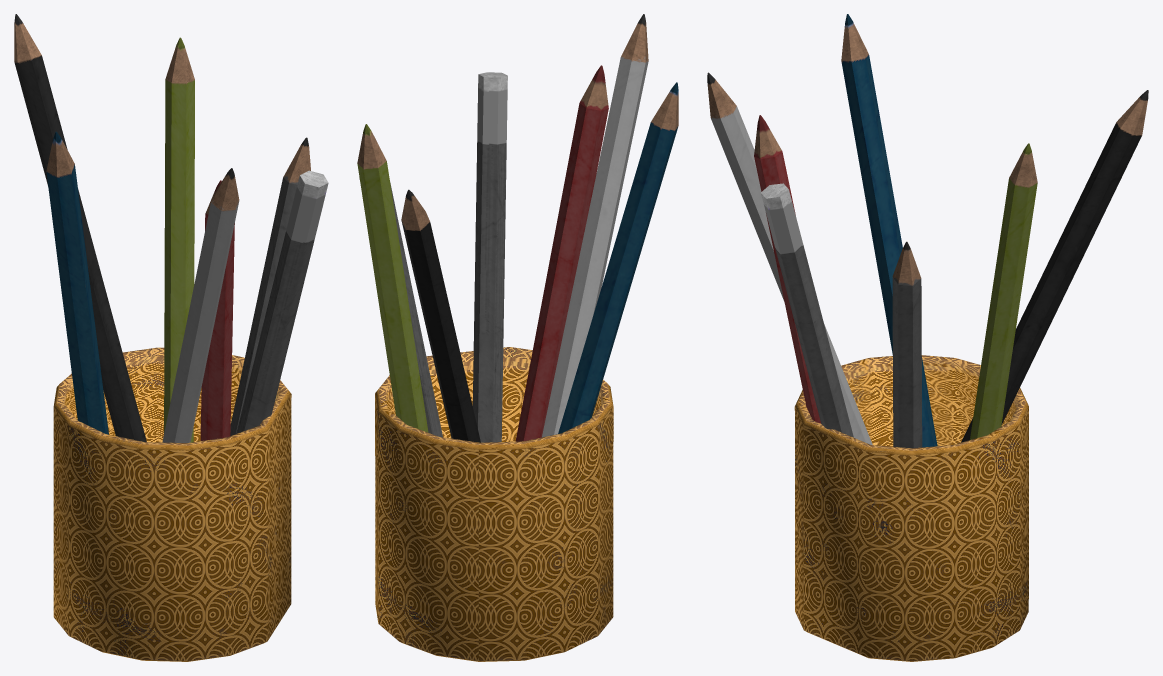
File: PencilHolder.fbx
3 views of the same model, side by side, from view 1: azimuth 30°, elevation 25°; view 2: azimuth 150°, elevation 25°; view 3: azimuth 270°, elevation 25° (orthographic). The views are drawn at different scales.
Parts seen in each view (by area): view 1: Penholder1; view 2: Penholder1; view 3: Penholder1.
Boxes of the visible parts, x1,y1,x2,y2 form: Penholder1: (14, 14, 328, 661); Penholder1: (357, 14, 678, 661); Penholder1: (707, 14, 1148, 661).
Bounding box in the file's own units: 16.46 × 29.67 × 22.42.
Materials: 3 (3 with a texture image).
